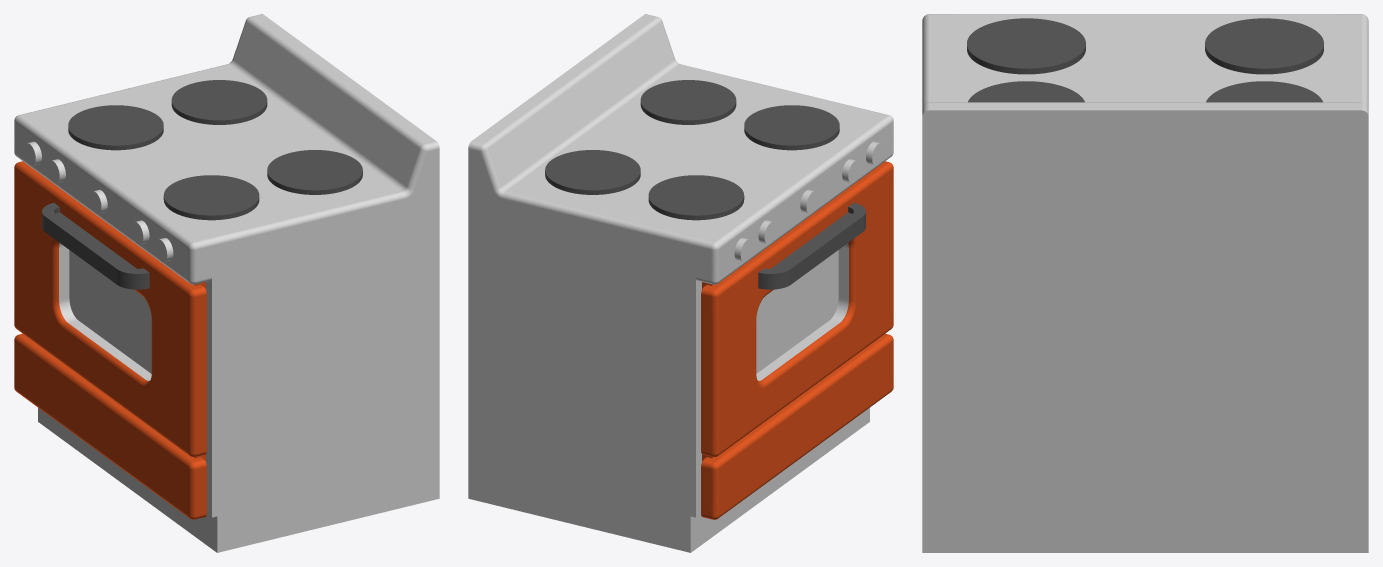
The model's file is stove.fbx.
The picture shows the model from 3 angles, left to right: view 1: azimuth 30°, elevation 25°; view 2: azimuth 150°, elevation 25°; view 3: azimuth 270°, elevation 25°; orthographic projection. The views are drawn at different scales.
Visible parts, largest first — view 1: stove; view 2: stove; view 3: stove.
Boxes of the visible parts, <box> form: stove: <box>14,14,439,552</box>; stove: <box>468,14,893,552</box>; stove: <box>922,14,1368,552</box>.
Bounding box in the file's own units: 499 × 630 × 576.
